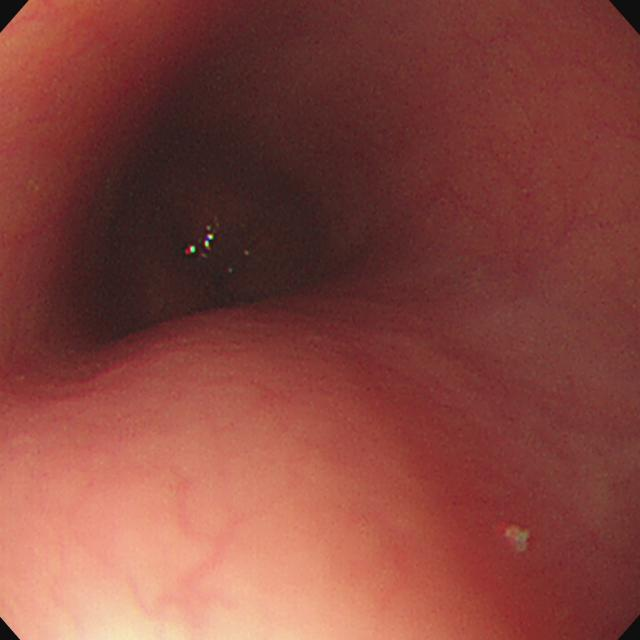U: (185, 225, 216, 261)
